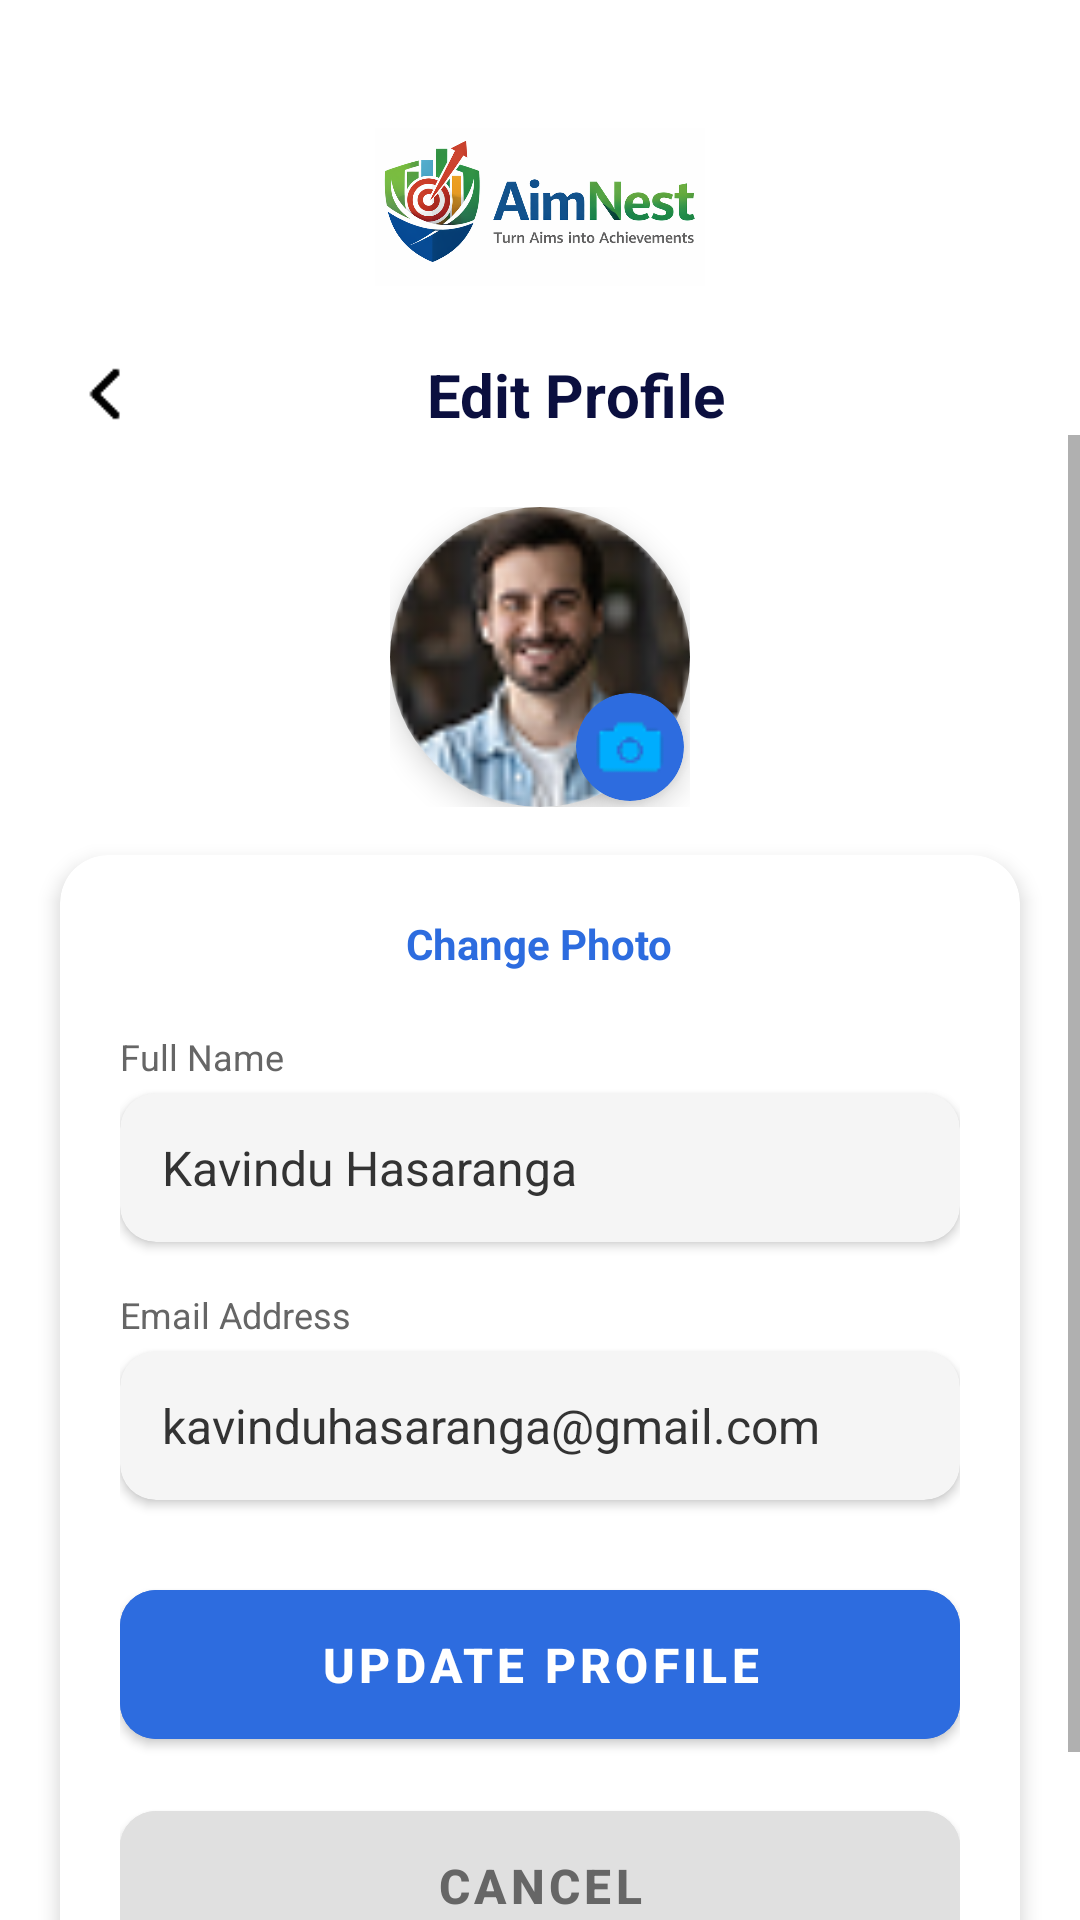

Locate icon controls on the screen. Image size 1080×1920, boxes as (x1, y1, x2, y2).
Back: (89, 368, 120, 420)
